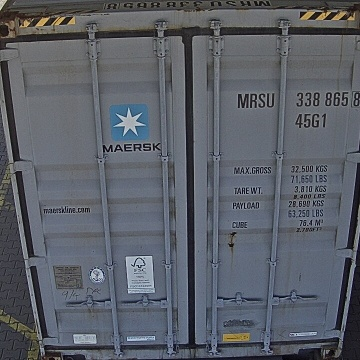serial_id: (238, 91, 360, 108)
